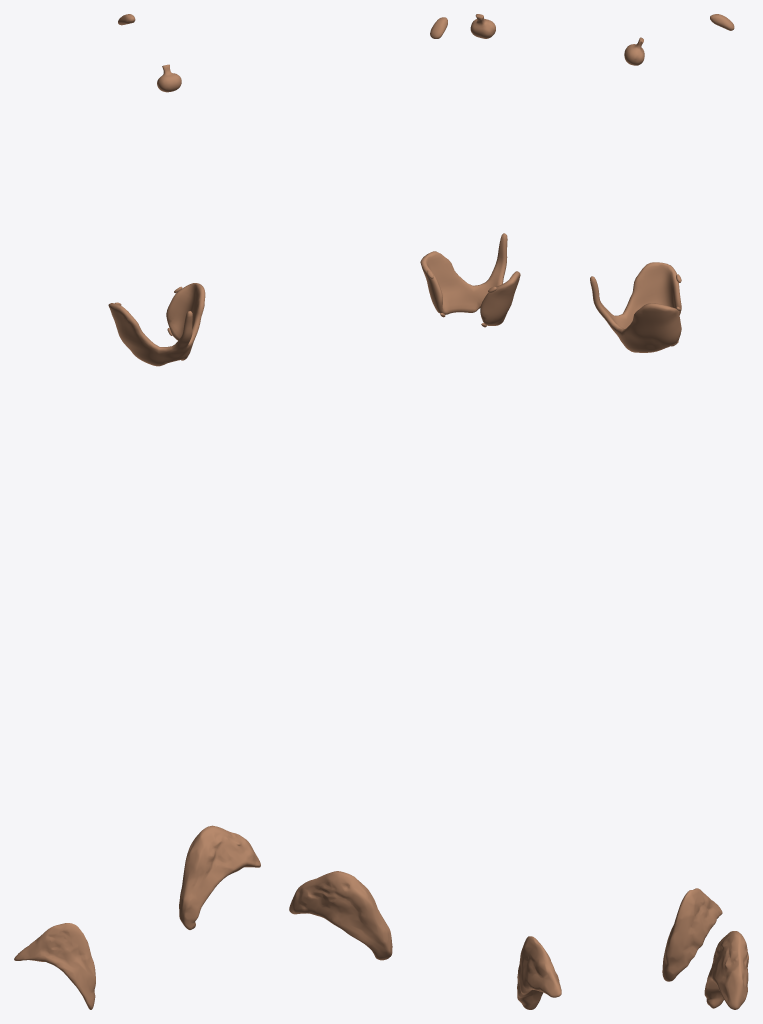
File: endocrine-system.glb
The picture shows the model from 3 angles, left to right: view 1: azimuth 30°, elevation 25°; view 2: azimuth 150°, elevation 25°; view 3: azimuth 270°, elevation 25°; orthographic projection. The views are drawn at different scales.
Visible parts, largest first — view 1: real-adrenal-glands-suprarenal-gland-left, thyroid, real-adrenal-glands-suprarenal-gland-right; view 2: real-adrenal-glands-suprarenal-gland-left, thyroid, real-adrenal-glands-suprarenal-gland-right; view 3: thyroid, real-adrenal-glands-suprarenal-gland-right, real-adrenal-glands-suprarenal-gland-left.
Part boxes in pixels (left/top/right/bottom): real-adrenal-glands-suprarenal-gland-left: left=179, top=825, right=260, bottom=929; thyroid: left=108, top=283, right=205, bottom=366; real-adrenal-glands-suprarenal-gland-right: left=14, top=923, right=95, bottom=1009; real-adrenal-glands-suprarenal-gland-left: left=289, top=871, right=392, bottom=960; thyroid: left=420, top=233, right=520, bottom=325; real-adrenal-glands-suprarenal-gland-right: left=517, top=936, right=561, bottom=1009; thyroid: left=590, top=262, right=681, bottom=352; real-adrenal-glands-suprarenal-gland-right: left=662, top=888, right=722, bottom=981; real-adrenal-glands-suprarenal-gland-left: left=704, top=931, right=748, bottom=1009.
Size of the model in its own units: 0.138 by 0.4994 by 0.072.
